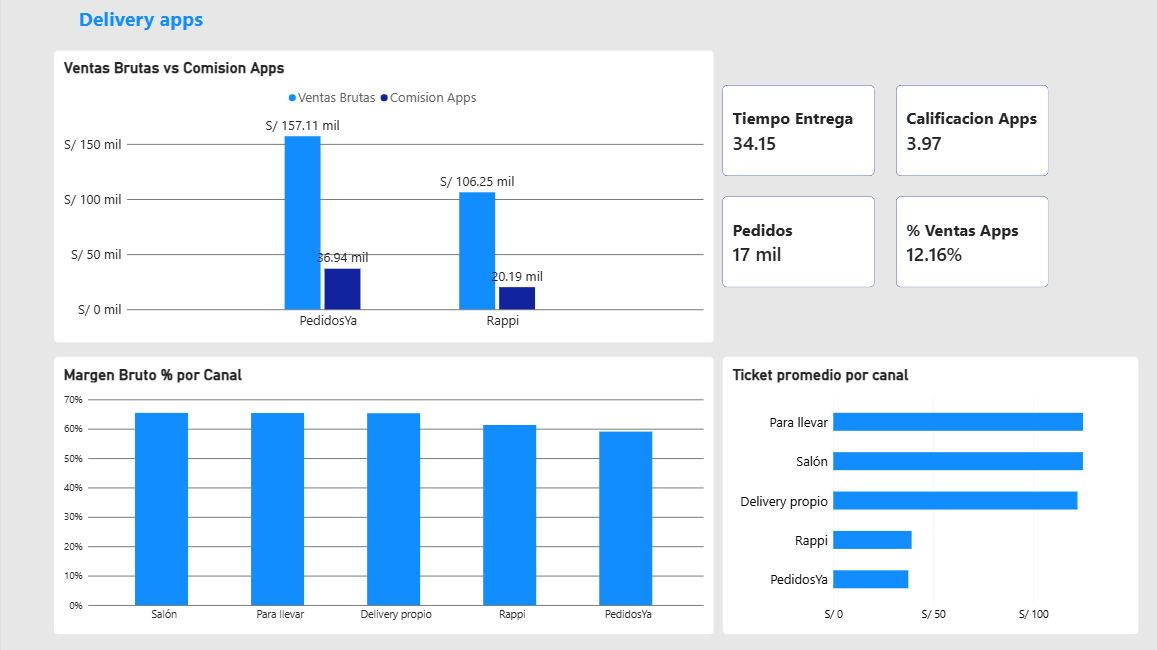

The page's visual inventory and layout, read from the dashboard file:
{"tool":"powerbi","page":{"name":"Delivery apps","canvas":[1920,1080],"ordinal":2},"visuals":[{"type":"textbox","box":[86.2,16.5,287.7,74.2],"z":0},{"type":"clusteredColumnChart","title":"Ventas Brutas vs Comision Apps","fields":{"Category":["Dim_Canal.canal"],"Y":["Dim_Canal.Ventas Brutas","Dim_Canal.Comision Apps"]},"box":[86.2,89.9,1087.9,482.5],"z":1000},{"type":"cardVisual","title":"Ventas Netas","fields":{"Data":["Dim_Canal.Calificacion Apps"]},"box":[1473.1,148.6,251.3,150.4],"z":1001},{"type":"cardVisual","title":"Ventas Netas","fields":{"Data":["Dim_Canal.Tiempo Entrega"]},"box":[1186.9,148.6,251.3,150.4],"z":1002},{"type":"clusteredColumnChart","title":"Margen Bruto % por Canal","fields":{"Category":["Dim_Canal.canal"],"Y":["Dim_Canal.Margen Bruto %"]},"box":[86.2,594.4,1087.9,458.6],"z":1003},{"type":"clusteredBarChart","title":"Ticket promedio por canal","fields":{"Category":["Dim_Canal.canal"],"Y":["Dim_Canal.Ticket Promedio"]},"box":[1186.9,594.4,686.1,458.6],"z":1004},{"type":"cardVisual","title":"Ventas Netas","fields":{"Data":["Dim_Canal.% Ventas Apps"]},"box":[1473.2,331.6,251.3,150.4],"z":1005},{"type":"cardVisual","title":"Ventas Netas","fields":{"Data":["Dim_Canal.Pedidos"]},"box":[1188.3,331.6,251.3,150.4],"z":1006}]}

Visuals, with their boxes in screenshot pixels (x1, y1, x2, y2), scaled from the page's 1920x1080 canvas onto the 1157x650 screenshot:
textbox: [52, 10, 225, 55]
"Ventas Brutas vs Comision Apps" clusteredColumnChart: [52, 54, 708, 344]
"Ventas Netas" cardVisual: [888, 89, 1039, 180]
"Ventas Netas" cardVisual: [715, 89, 867, 180]
"Margen Bruto % por Canal" clusteredColumnChart: [52, 358, 708, 634]
"Ticket promedio por canal" clusteredBarChart: [715, 358, 1129, 634]
"Ventas Netas" cardVisual: [888, 200, 1039, 290]
"Ventas Netas" cardVisual: [716, 200, 868, 290]
